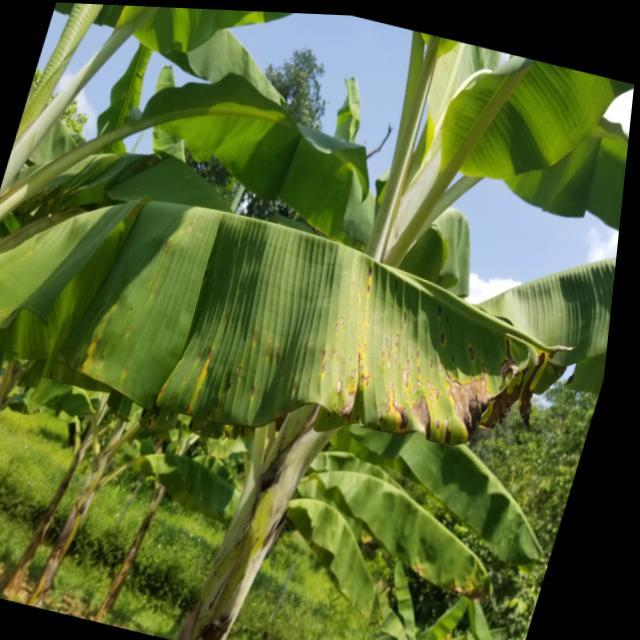Early_rust: (57, 250, 591, 453)
